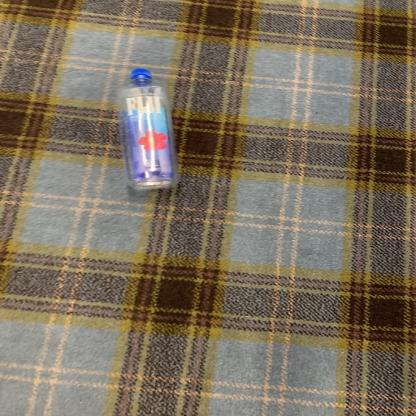trash: (118, 67, 182, 192)
